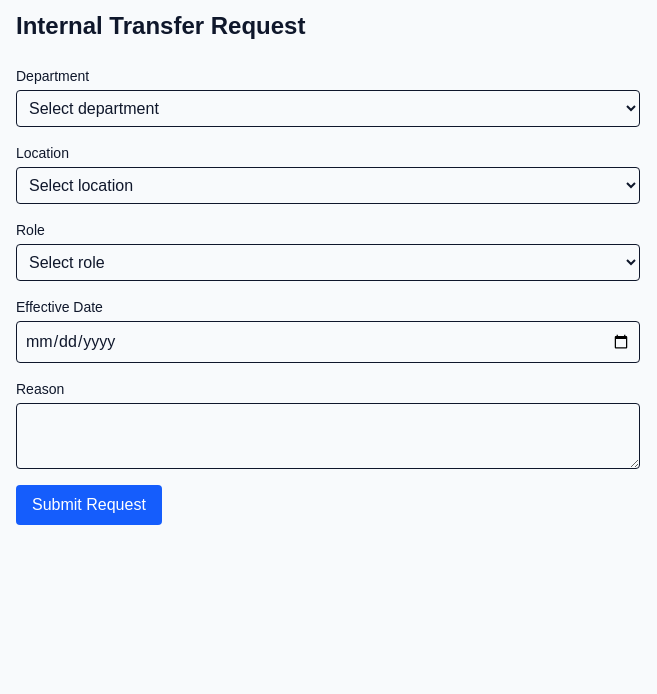
Scenario: employee-internal-transfer — T04: Approved Form Validation (UT05 / AC05 / AC03) › omitting optional reason does not cause validation failure when required fields are present
Select "Engineering" in the dropdown labelled "Department" at (328, 108), box left=16, top=90, right=640, bottom=127
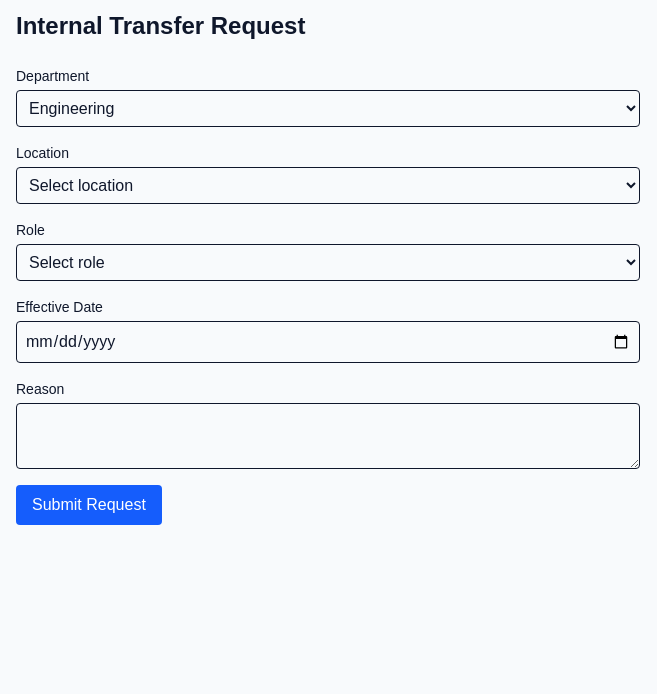
Select "New York" in the dropdown labelled "Location" at (328, 186), box left=16, top=167, right=640, bottom=204
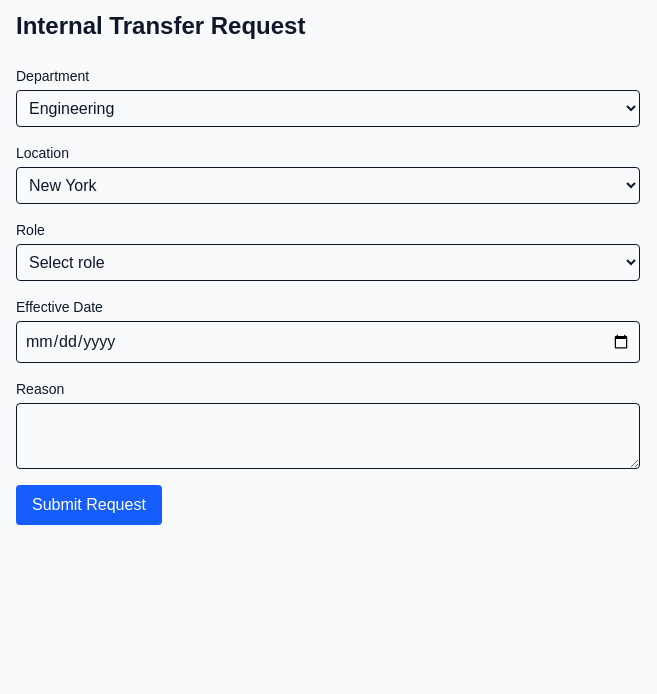
Select "Software Engineer" in the dropdown labelled "Role" at (328, 262), box left=16, top=244, right=640, bottom=281
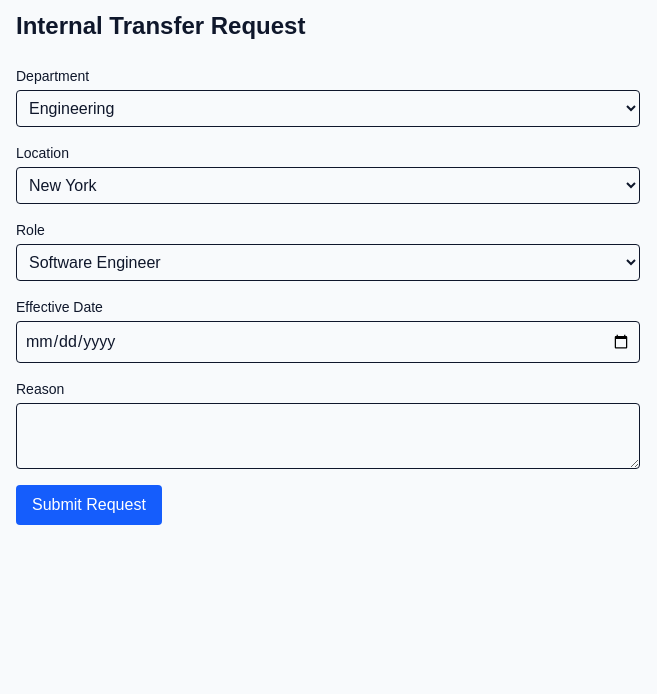
Type "2026-10-01" into the date field labelled "Effective Date" at (328, 342), box left=16, top=321, right=640, bottom=363
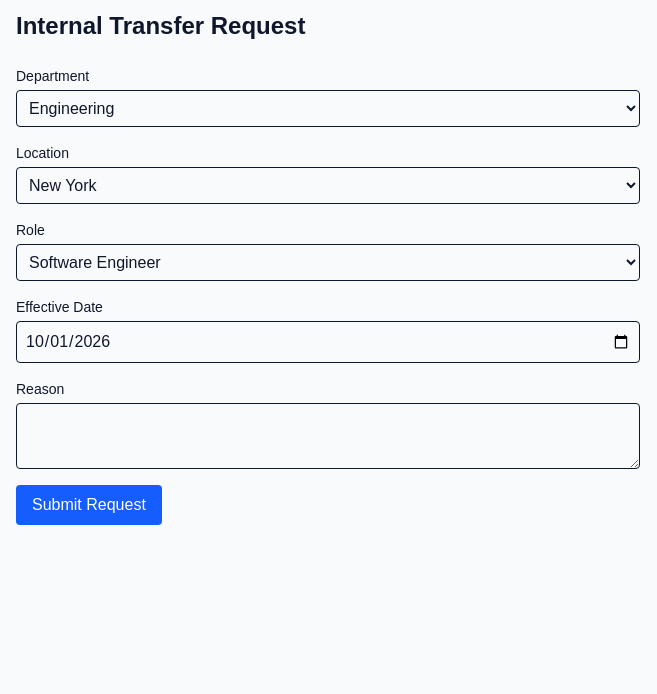
Click the button "Submit Request" at (89, 505), box left=16, top=485, right=162, bottom=525
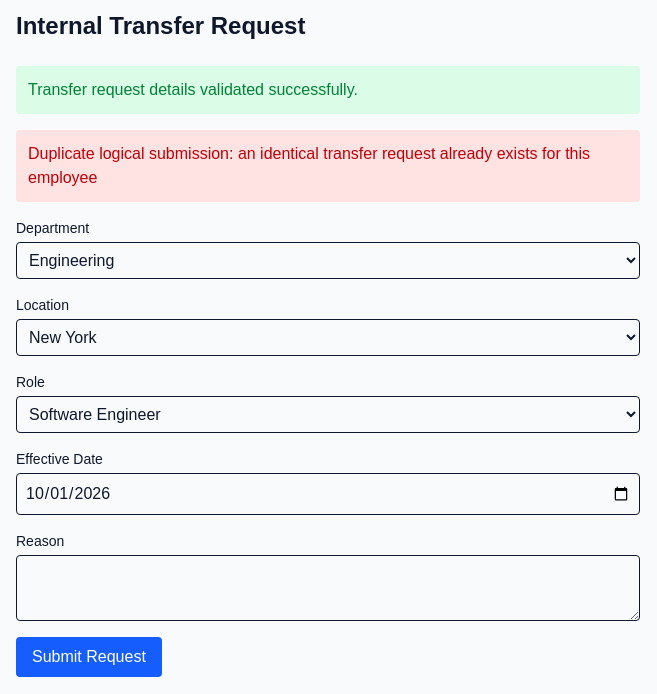
Result: the message "Transfer request details validated successfully." is shown at left=16, top=66, right=640, bottom=114
